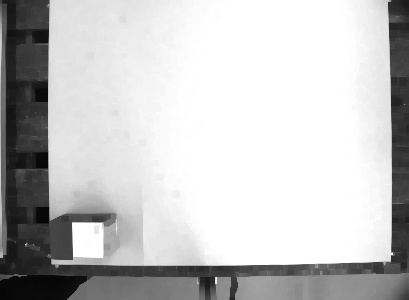b4: (45, 211, 120, 261)
